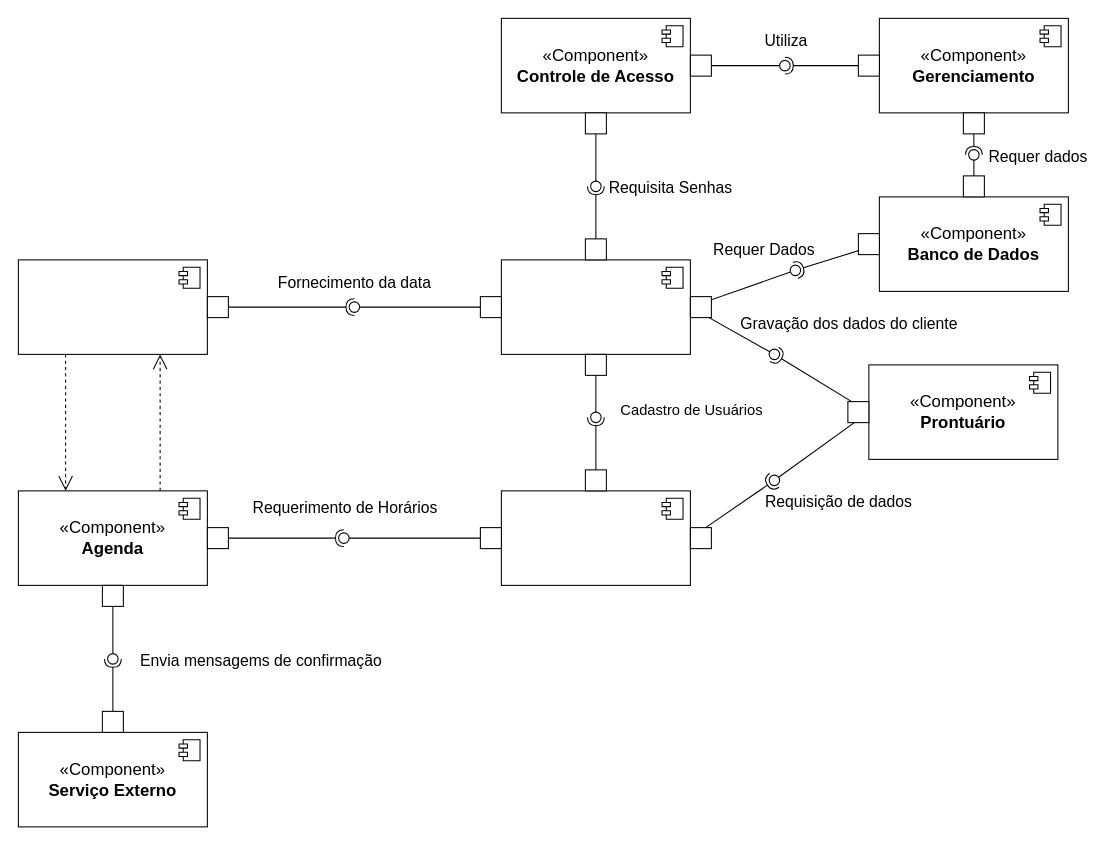
Image size: 1105x845. Some labels were removed from this diagram. Each missing label, with the centre of its shape:
«Component» Agendamento: the point at 112,306
«Component» Consulta: the point at 595,537
«Component» Gerenciamento de Usuário: the point at 595,306
